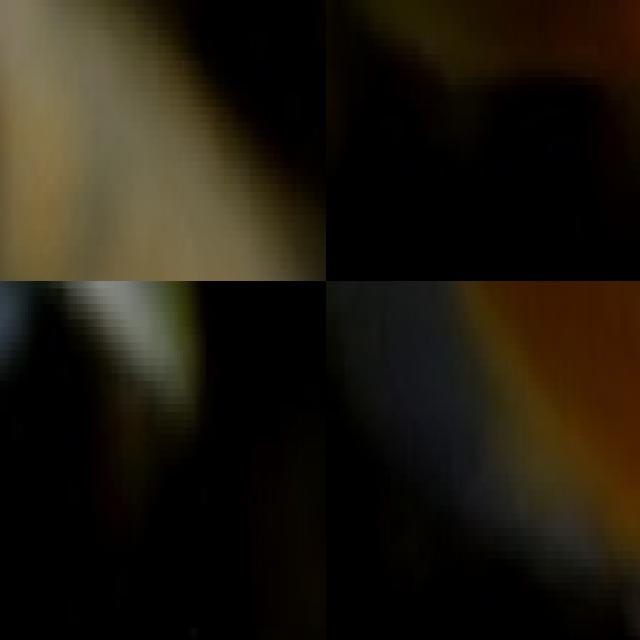fish: (0, 0, 326, 281), (326, 0, 640, 281), (0, 281, 215, 489)
